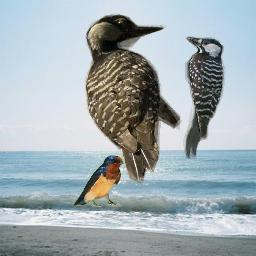Swallow: (72, 155, 124, 207)
Woodpecker: (85, 13, 184, 186), (183, 34, 226, 159)
